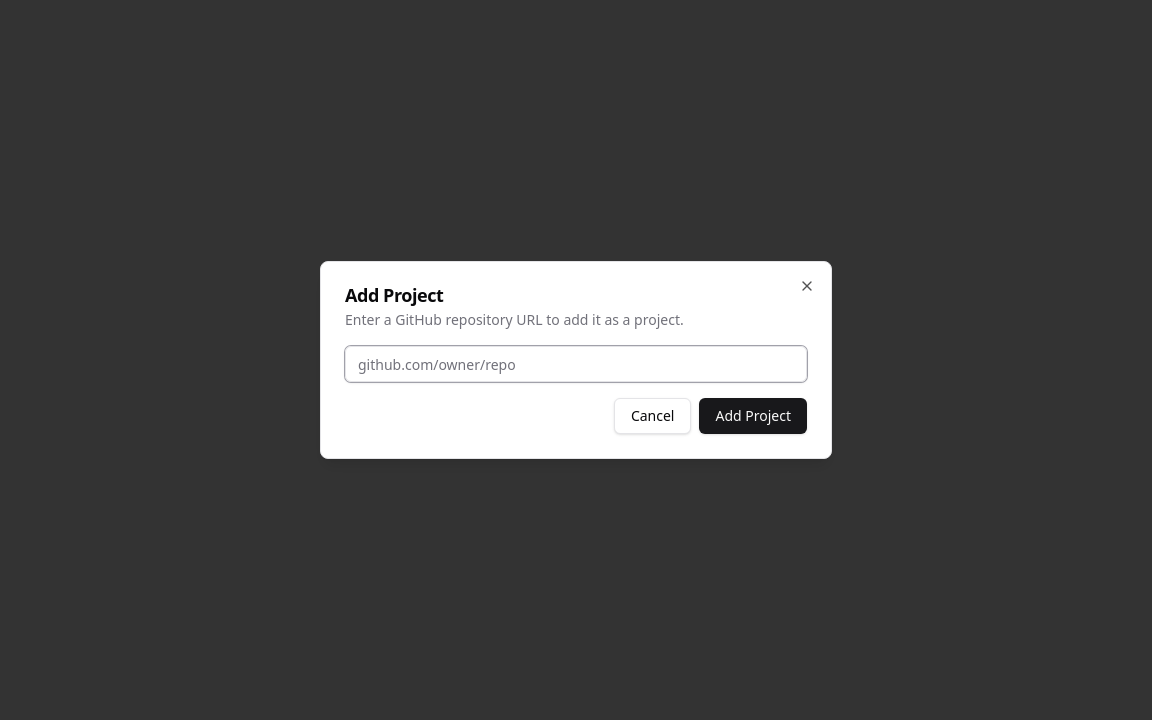
Scenario: AddProjectDialog › URL validation › shows error for invalid GitHub URL
The image size is (1152, 720).
In the field with placeholder "github.com/owner/repo": (576, 364) [345,346,807,382], type "not-a-valid-url"
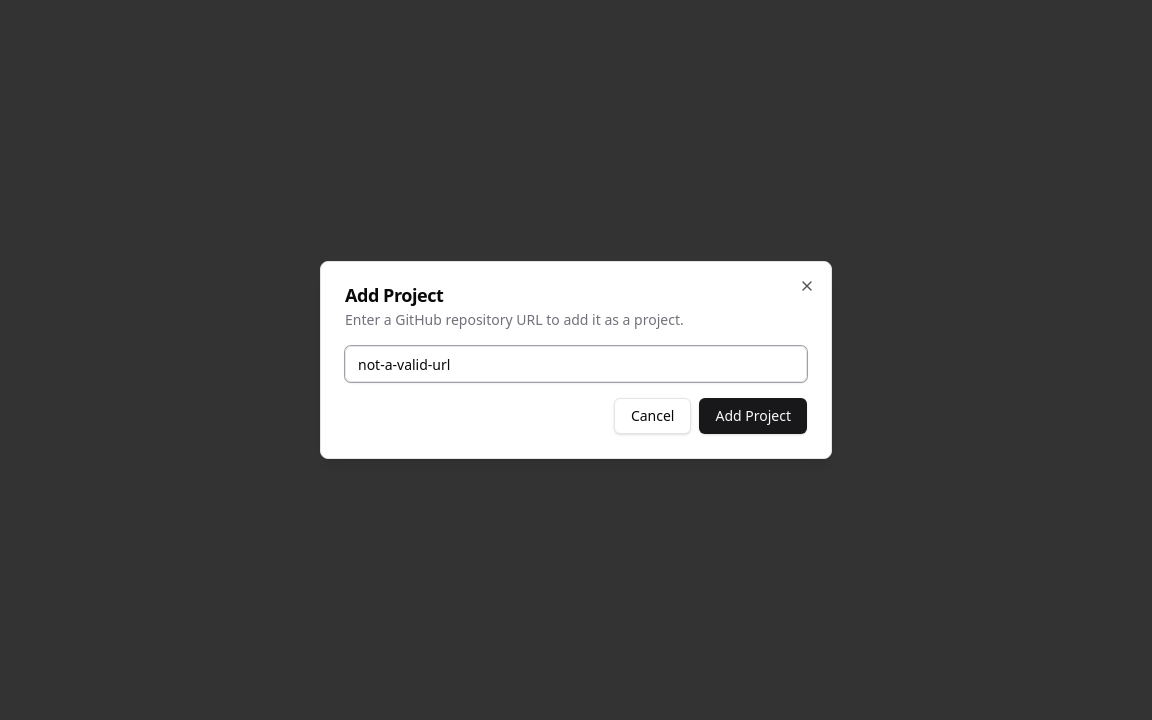
Click the button "Add Project": click(753, 416) [700,398,807,434]
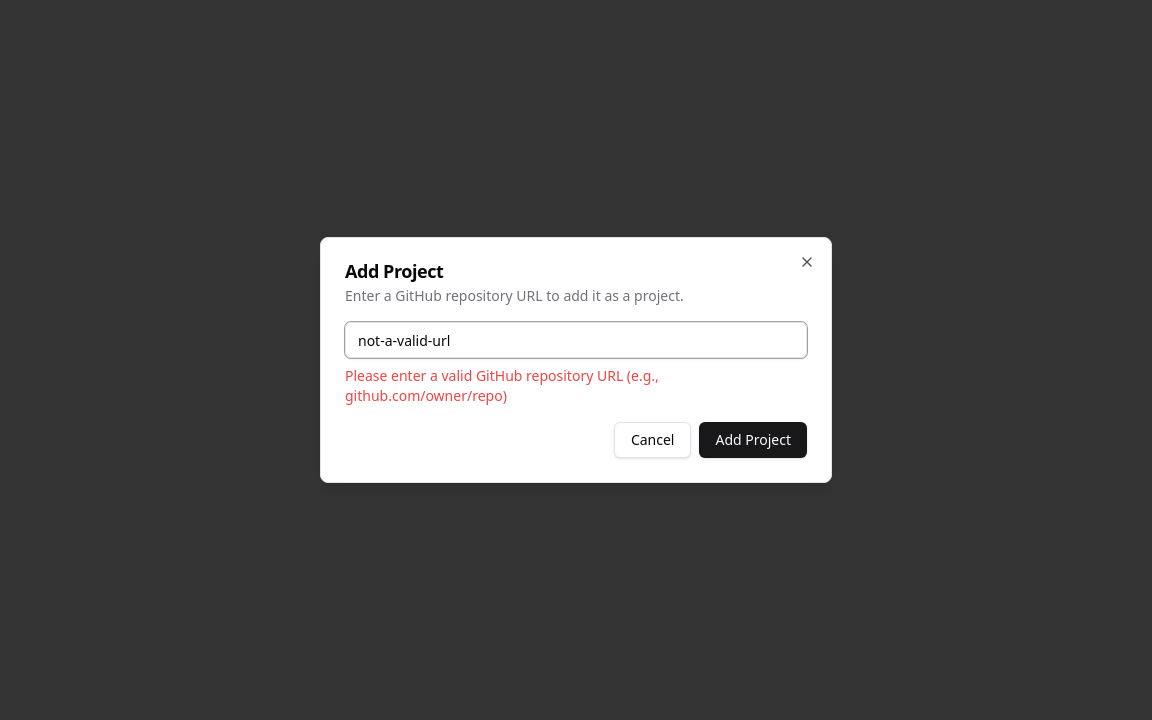
Now the text "valid GitHub repository URL" is shown, box [345,366,659,405]
